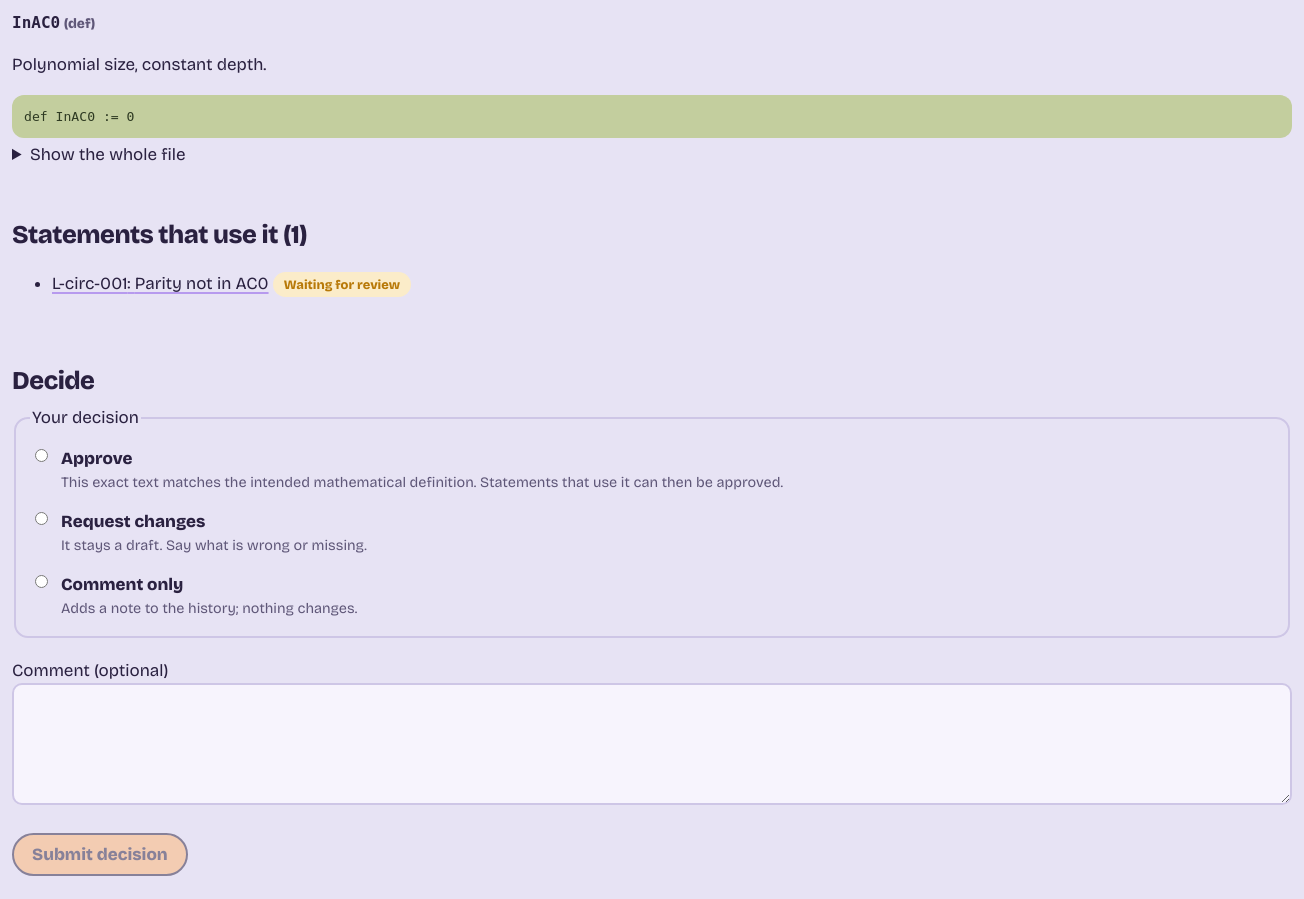
Test: the review tool › definition: a maintainer cannot approve; an advisor approves exactly the text shown
The width and height of the screenshot is (1304, 899).
Later steps or results of the test are not shown.
(page scrolled)
Click the radio button labelled "Approve": {"x": 42, "y": 456} left=35, top=449, right=48, bottom=462
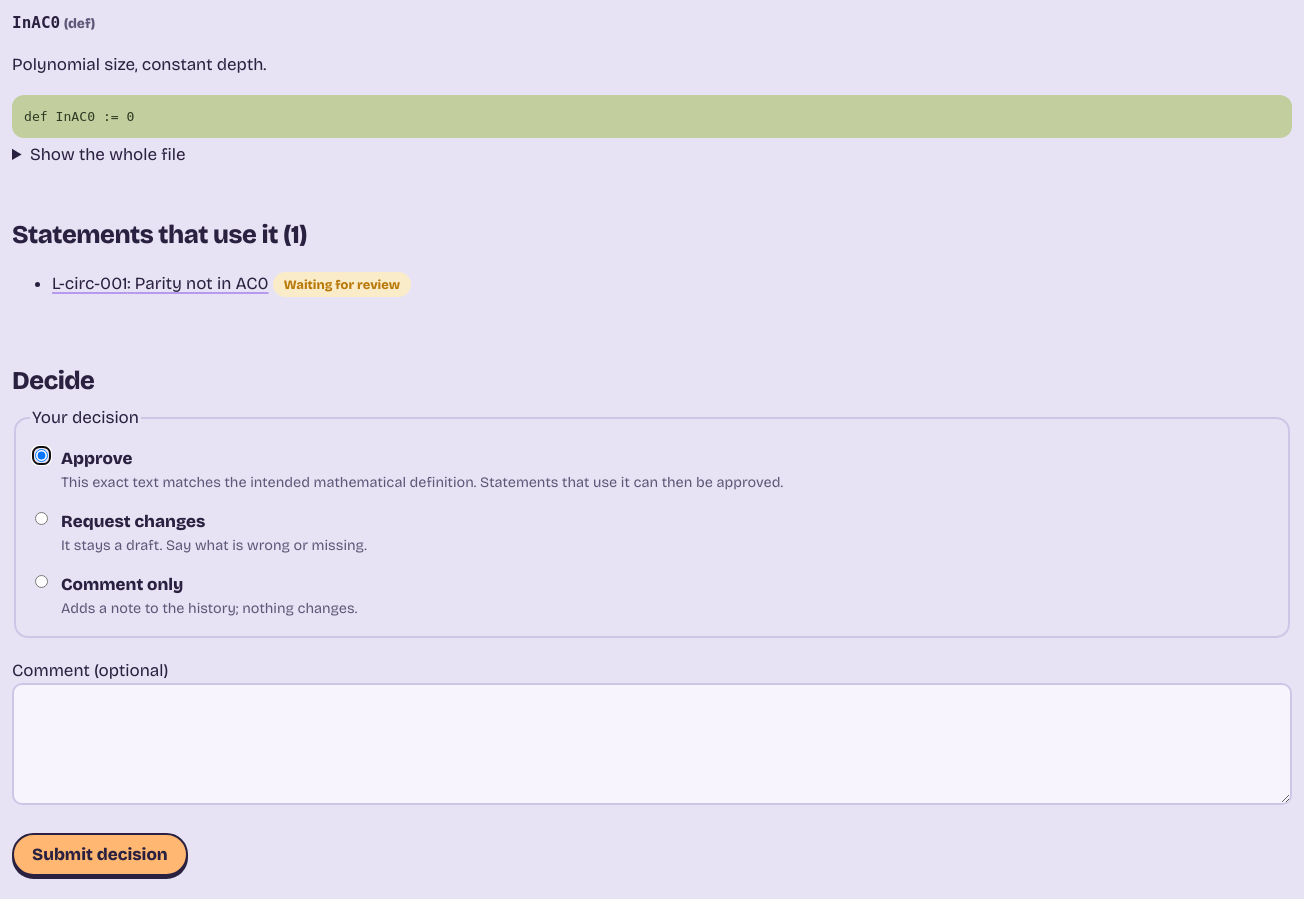
Click the button "Submit decision": {"x": 100, "y": 854} left=12, top=833, right=188, bottom=876
(page scrolled)
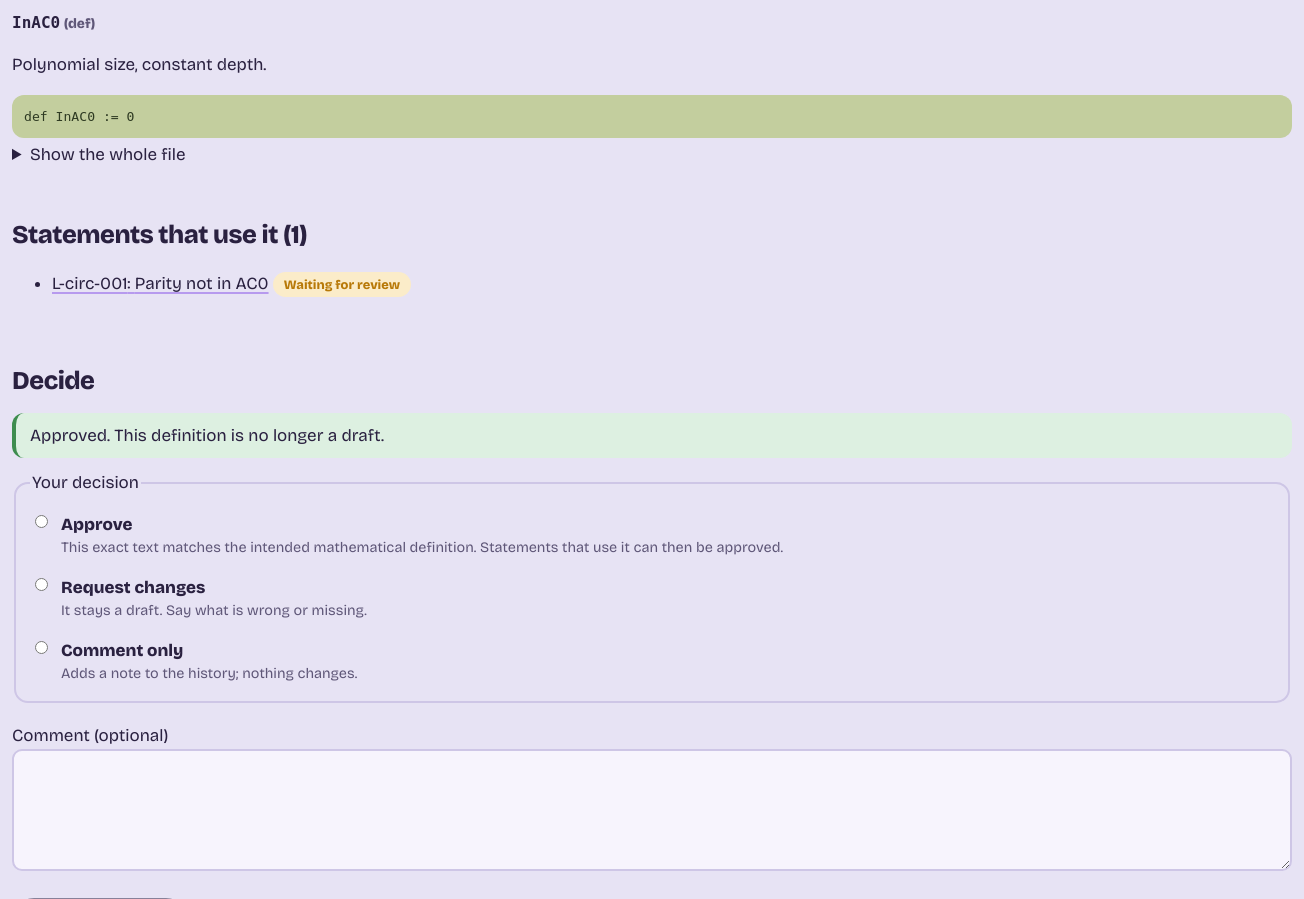
Result: the text "Approved. This definition is no longer a draft." is shown at left=12, top=413, right=1292, bottom=458
